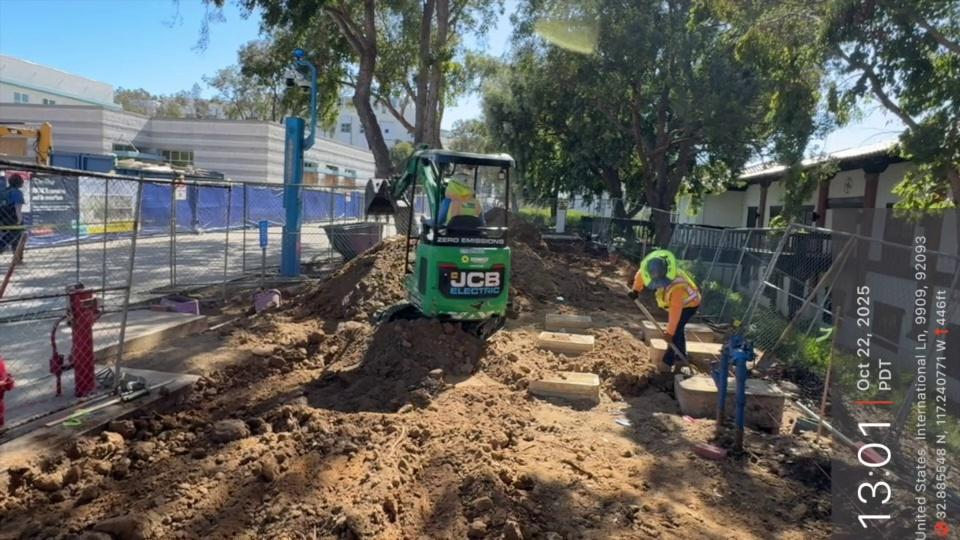Exacavator: (362, 143, 516, 343)
